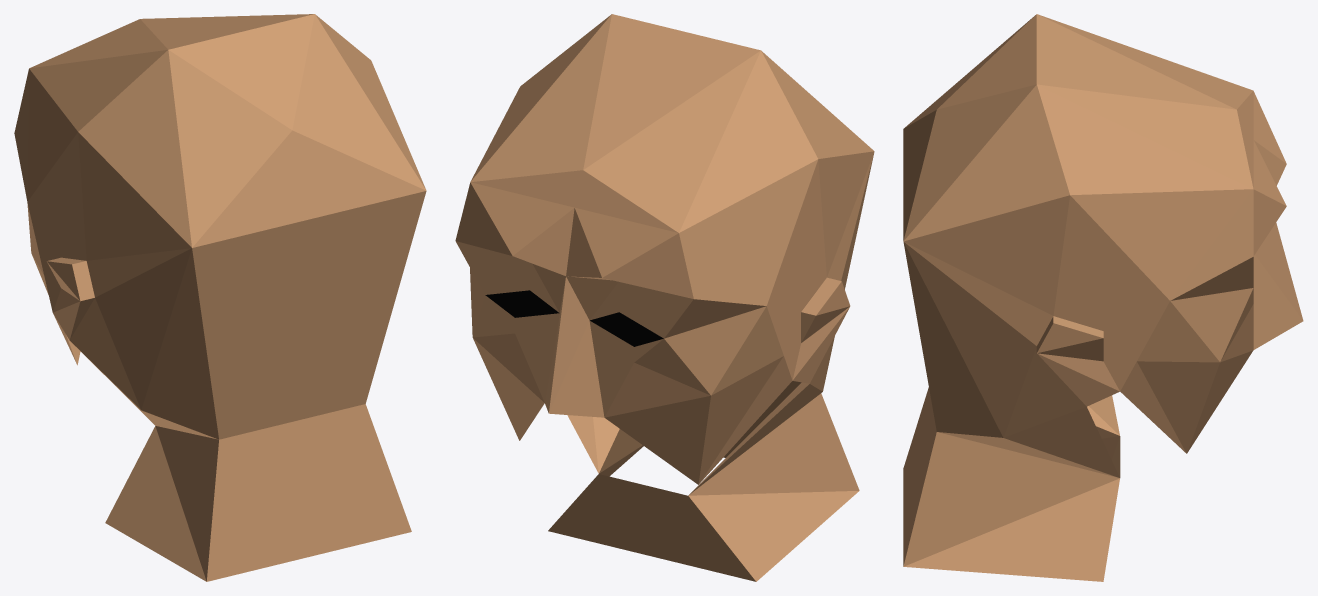
File: player_male_head_0_0.obj
3 views of the same model, side by side, from view 1: azimuth 30°, elevation 25°; view 2: azimuth 150°, elevation 25°; view 3: azimuth 270°, elevation 25° (orthographic). The views are drawn at different scales.
Bounding box in the file's own units: 0.1719 × 0.25 × 0.1875.
